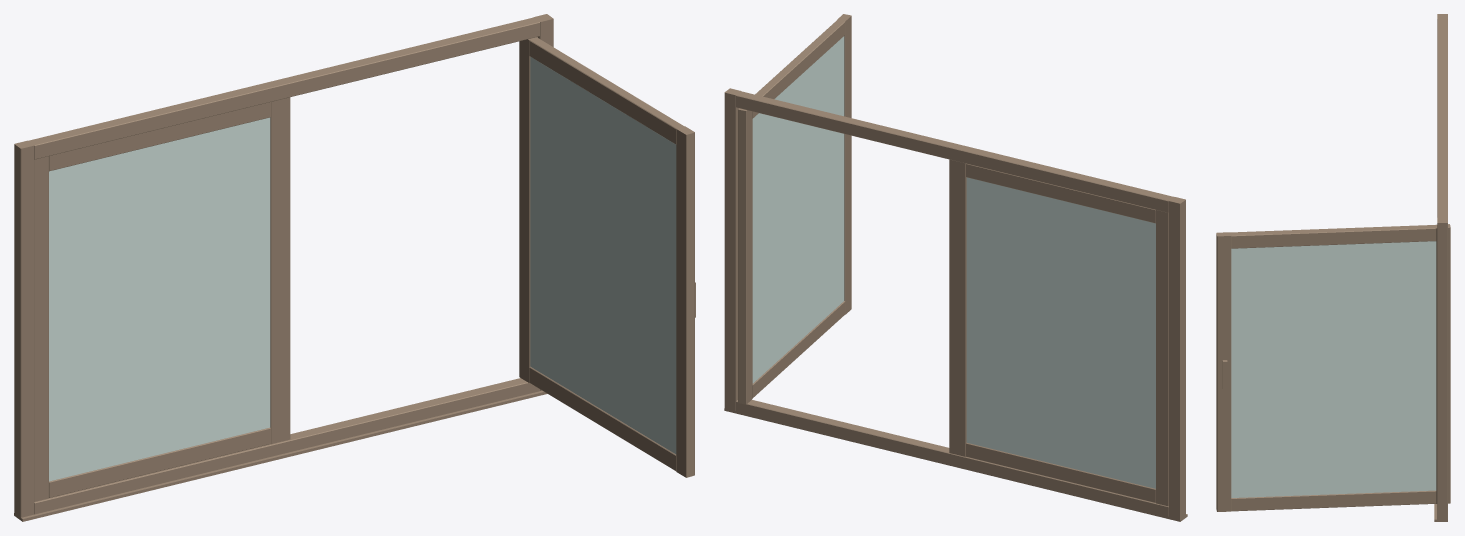
File: bt-S53RP-2-ouvert-quartz-1019.glb
3 views of the same model, side by side, from view 1: azimuth 30°, elevation 25°; view 2: azimuth 150°, elevation 25°; view 3: azimuth 270°, elevation 25° (orthographic). The views are drawn at different scales.
Visible parts, largest first — view 1: verre, structure; view 2: verre, structure; view 3: verre, structure.
Boxes of the visible parts, x1,y1,x2,y2 form: verre: (49,57,676,481); structure: (14,14,695,521); verre: (752,36,1155,488); structure: (724,14,1187,521); verre: (1231,241,1436,497); structure: (1216,14,1450,521).
Bounding box in the file's own units: 2.44 × 1.6 × 1.14.
